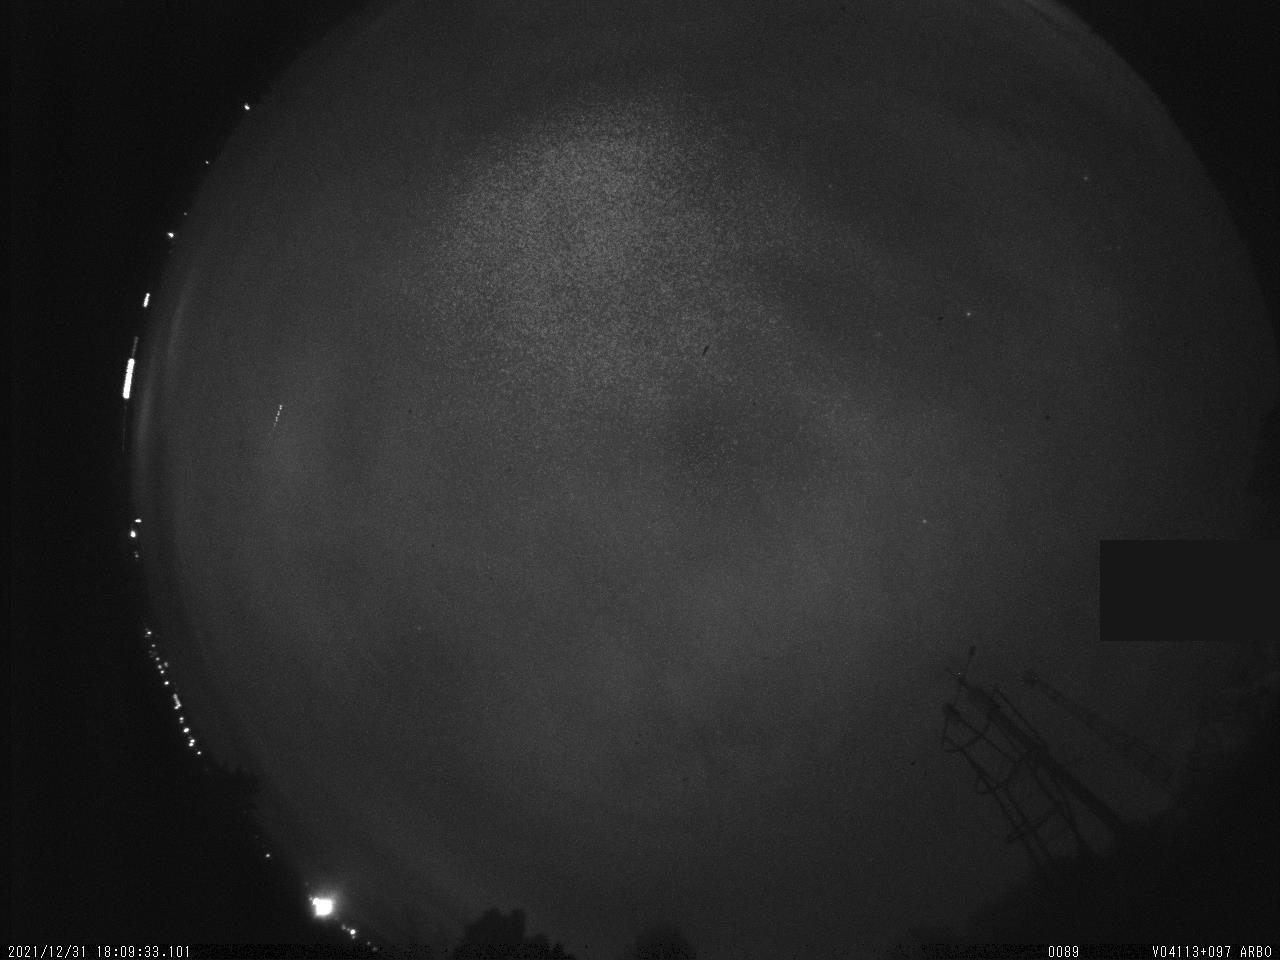meteor: (247, 398, 306, 440)
